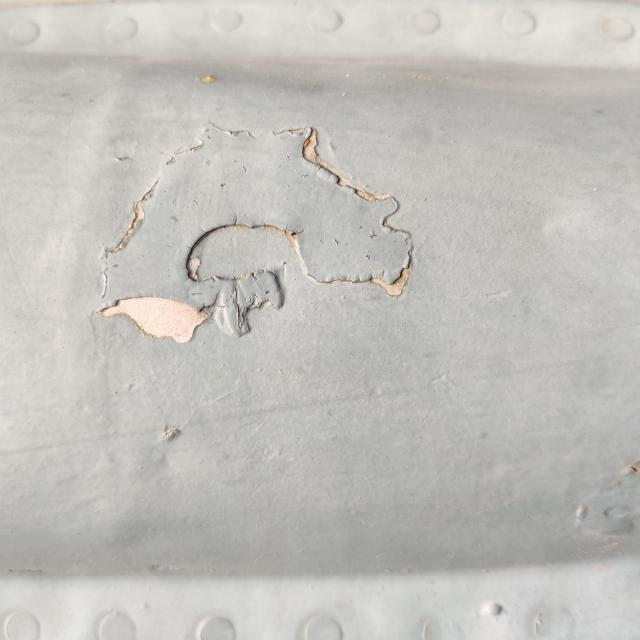paint-off: (90, 284, 220, 358)
